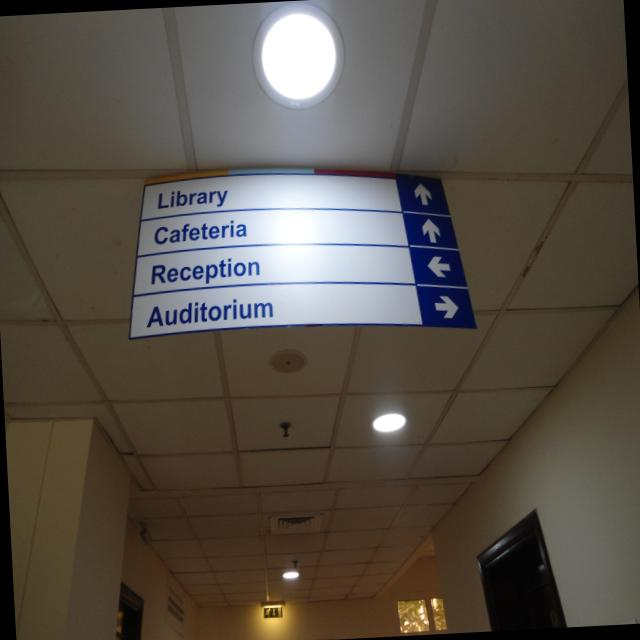exitLight: (260, 601, 284, 623)
sign: (118, 150, 484, 343)
